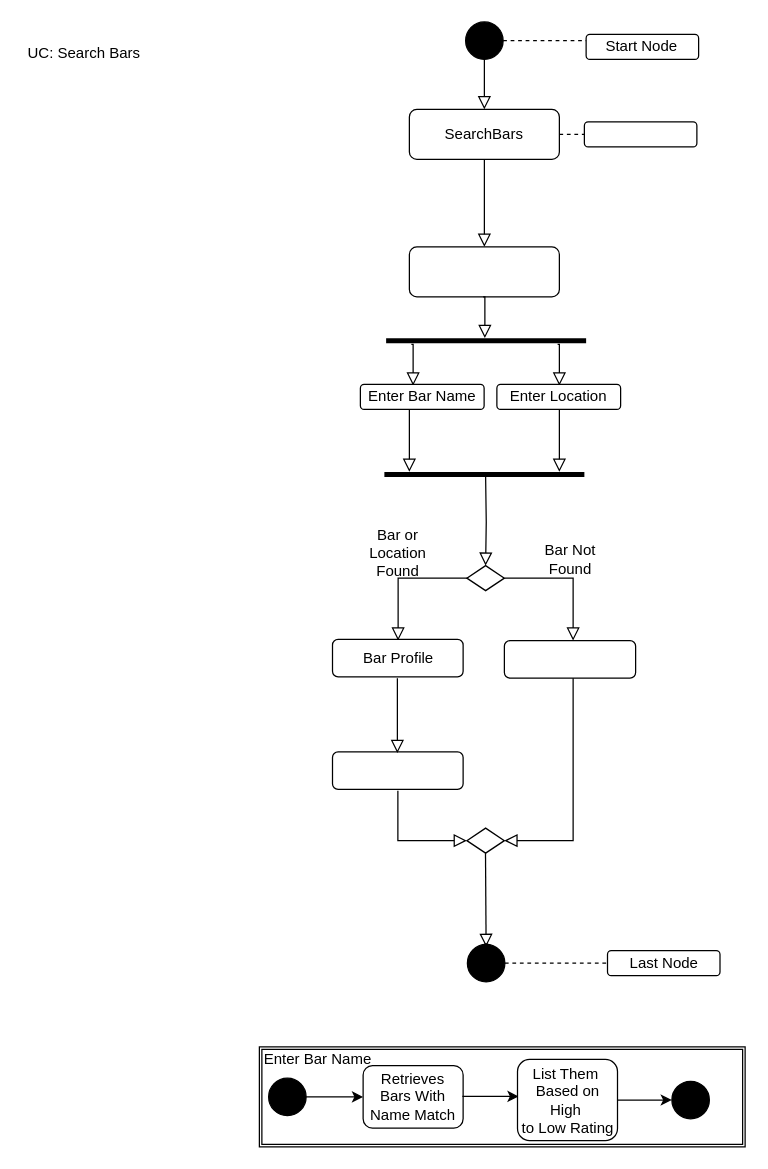
Image size: 768x1169. Some labels were removed from this diagram. The centre of each missing label's shape, as x and y in pixels:
"Action" belongs at point (640, 134).
"List of close bars" belongs at point (397, 770).
"Not Found Message" belongs at point (569, 658).
"Prepare Search" belongs at point (483, 271).
